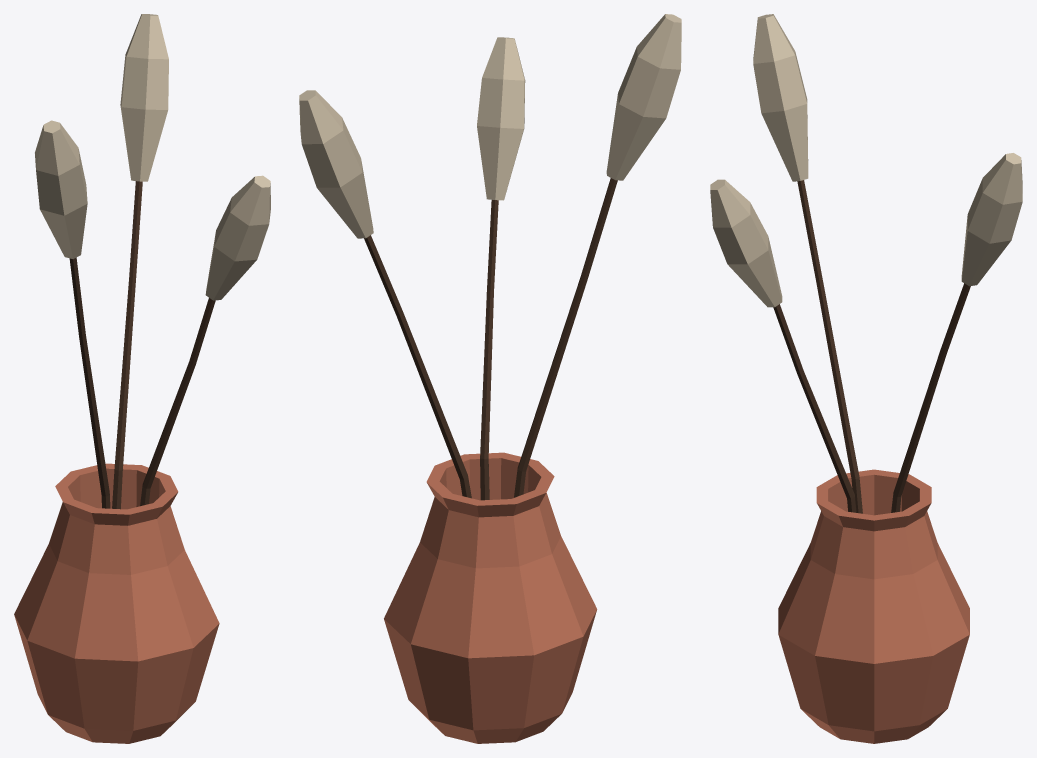
Rendered from FN_Vase_Stems.obj.
3 views of the same model, side by side, from view 1: azimuth 30°, elevation 25°; view 2: azimuth 150°, elevation 25°; view 3: azimuth 270°, elevation 25° (orthographic). The views are drawn at different scales.
Visible parts, largest first — view 1: FN_Vase_Stems; view 2: FN_Vase_Stems; view 3: FN_Vase_Stems.
Part boxes in pixels (x1,y1,x2,y2): FN_Vase_Stems: (14, 14, 270, 743); FN_Vase_Stems: (299, 14, 681, 743); FN_Vase_Stems: (710, 14, 1022, 743).
Size of the model in its own units: 0.362 by 0.9236 by 0.4035.
1 material, 1 textured.
